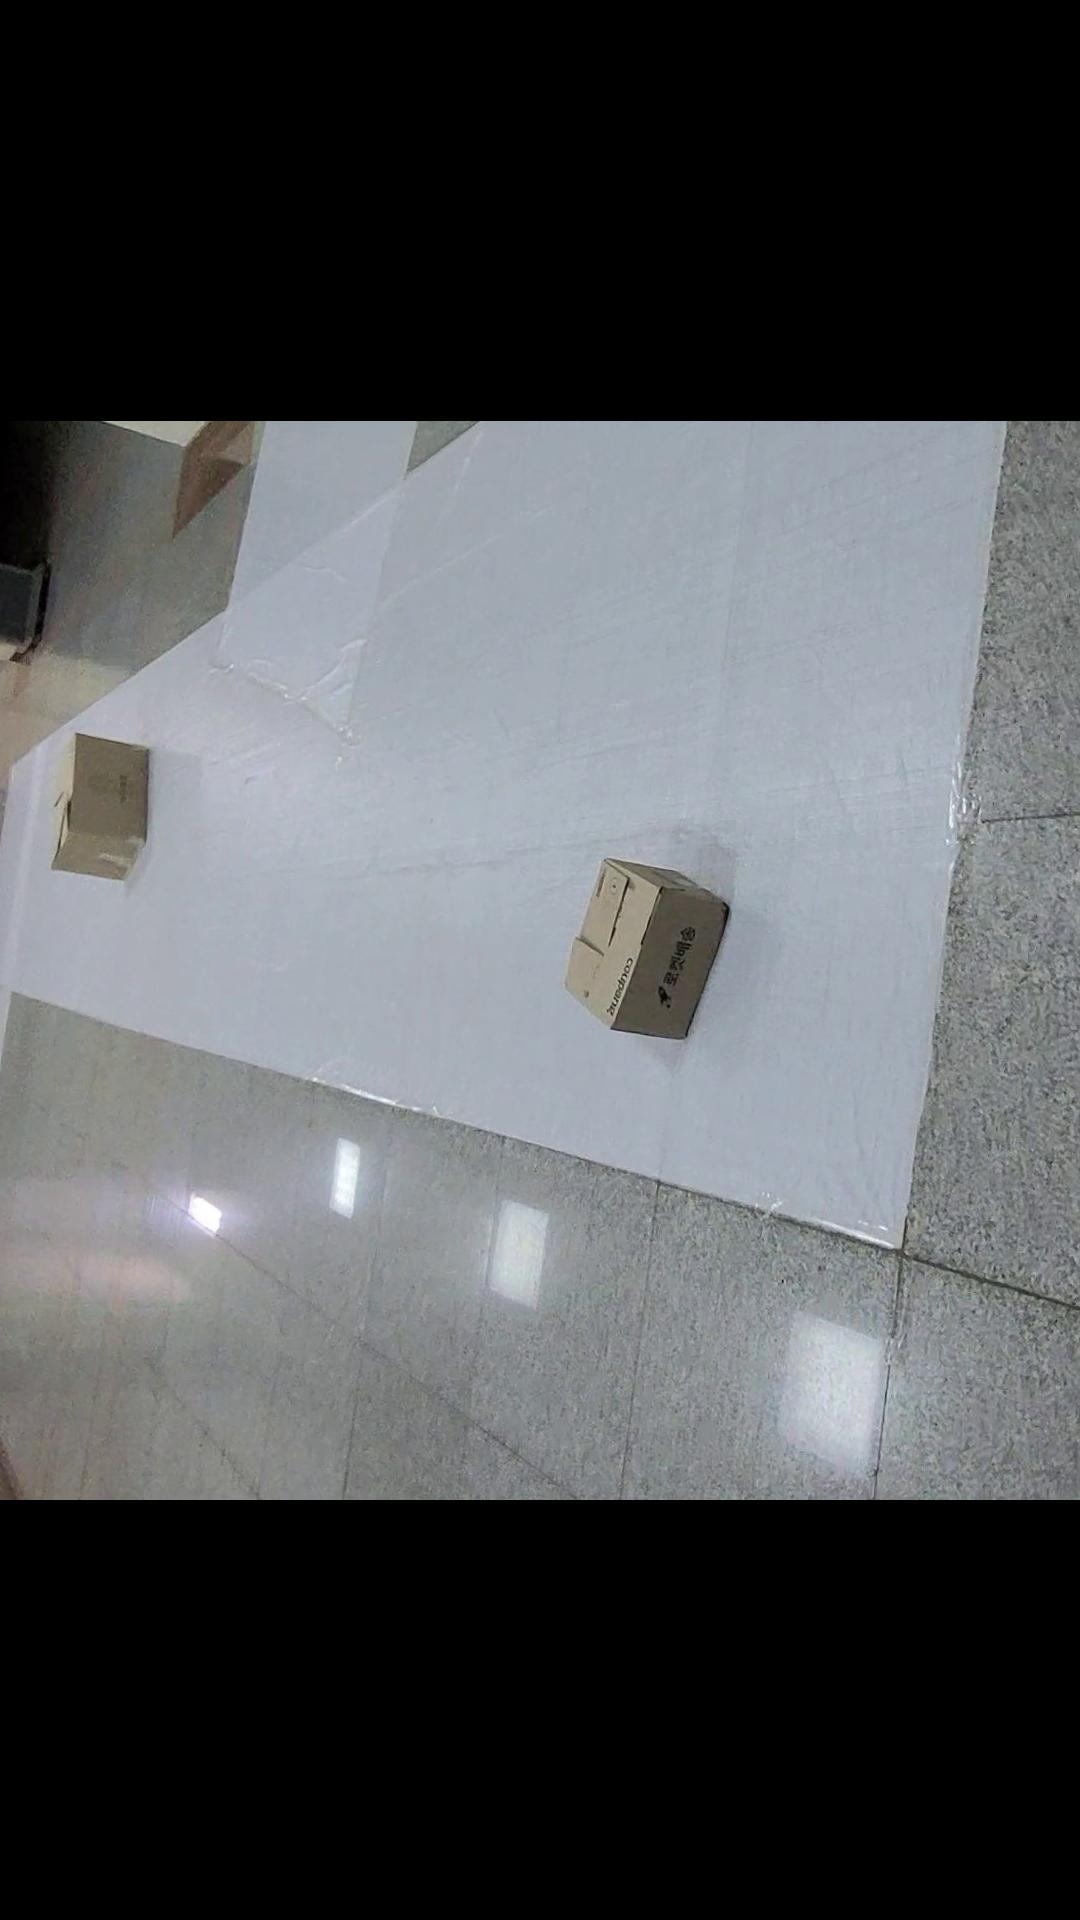Box: (527, 816, 756, 1106), (13, 708, 195, 916)
